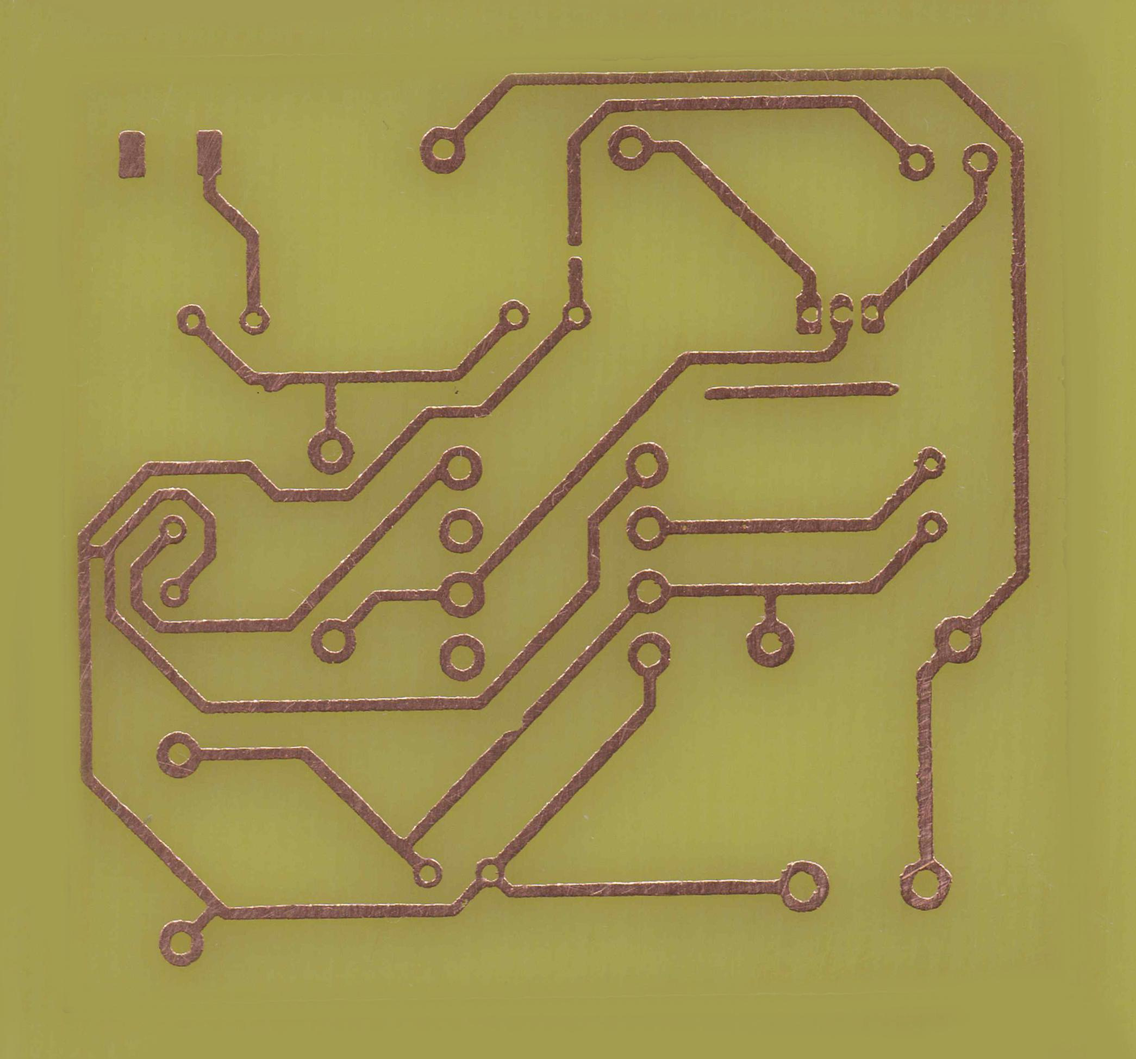missing_hole: (825, 291, 857, 334)
mouse_bite: (502, 714, 530, 738)
open_circuit: (559, 231, 591, 271)
short: (72, 539, 117, 563)
spur: (257, 368, 294, 396)
spurious_copper: (695, 378, 907, 404)
